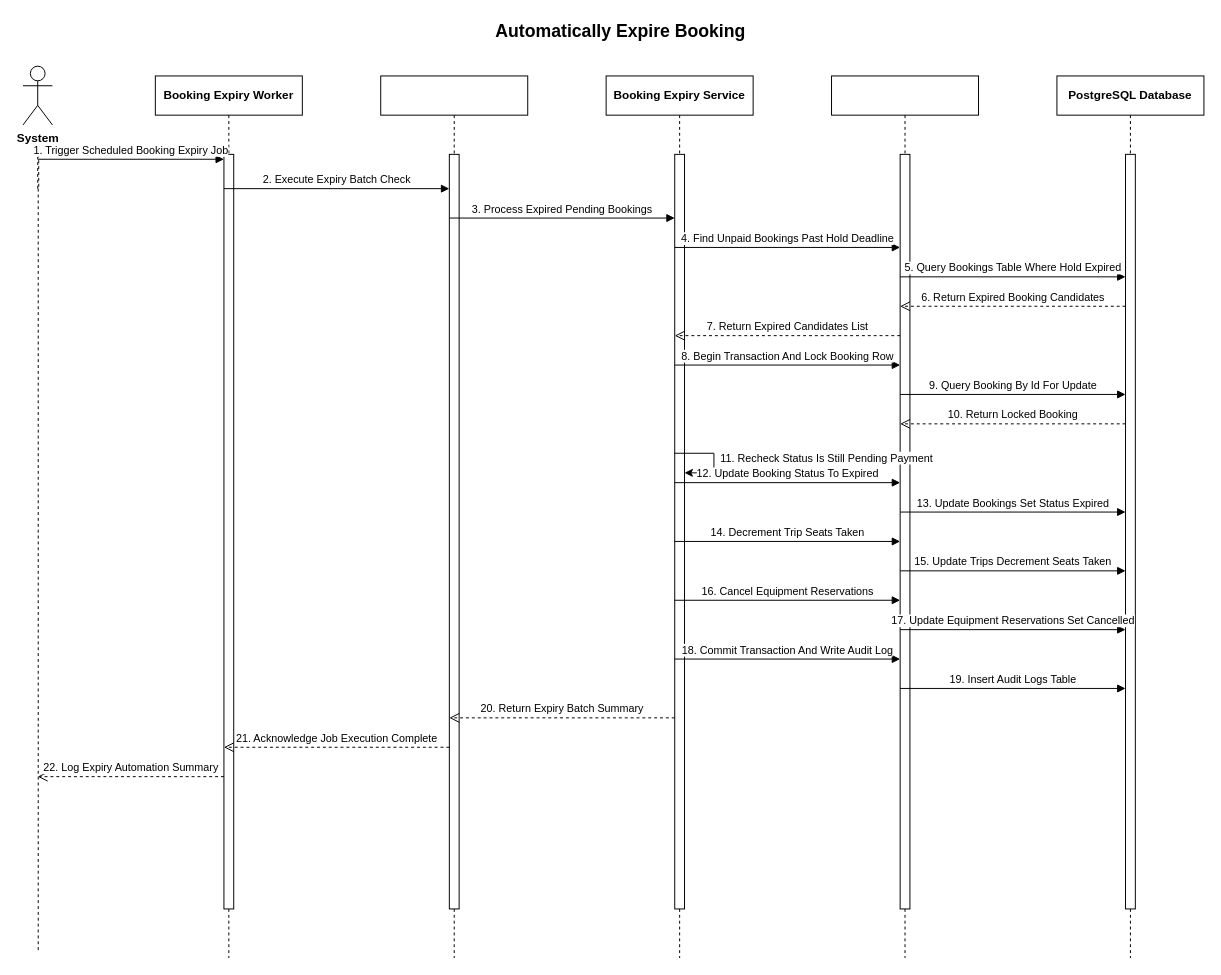
This 1221x975 diagram has some shape labels left out. The box of each missing label's shape, as (x1, y1, x2, y2) in pixels:
Booking Expiry Controller: (380, 75, 528, 958)
Bookings Model: (831, 75, 979, 958)
